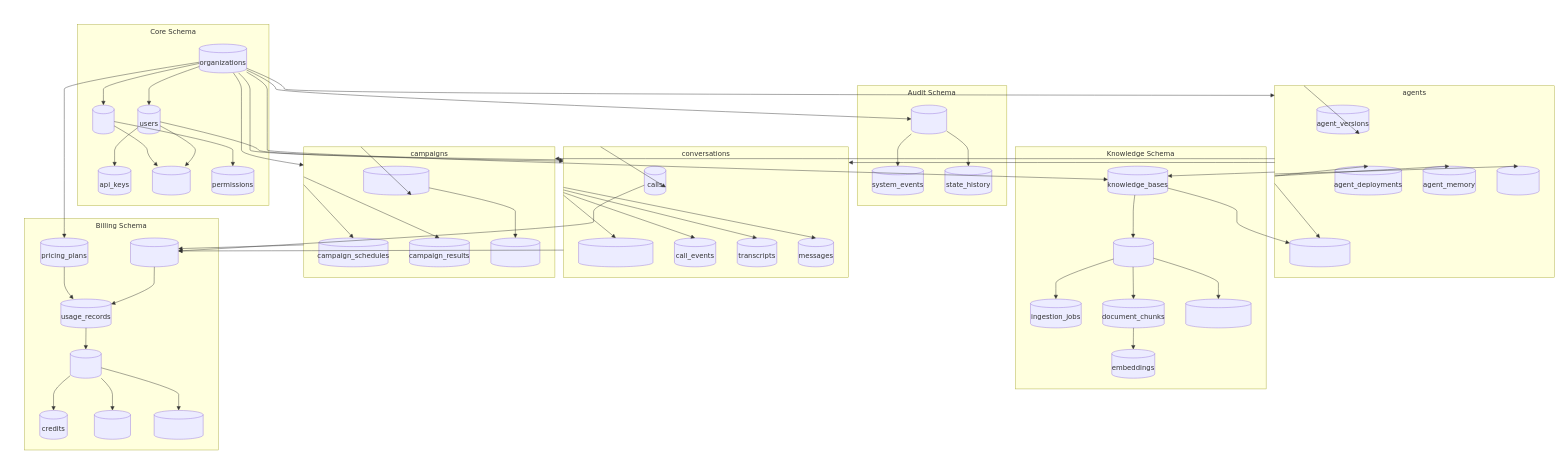
Image size: 1562x458. Some labels were removed from this diagram. The shapes that lost their labels are listed below. From the top down, each one's centre as x and y in pixels, then its label:
the point at 103,119: roles
the point at 929,119: audit_log
the point at 171,180: user_roles
the point at 396,180: campaign_contacts
the point at 1518,180: agent_tools
the point at 154,252: usage_events
the point at 515,252: call_attempts
the point at 615,252: conversation_memory
the point at 1133,252: documents
the point at 1319,252: agent_knowledge
the point at 1218,313: document_versions
the point at 85,363: invoices
the point at 112,424: payments
the point at 178,424: invoice_items
